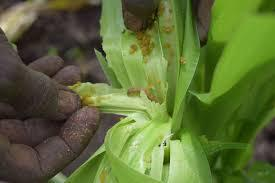fallarmy_worm: (125, 86, 154, 99)
